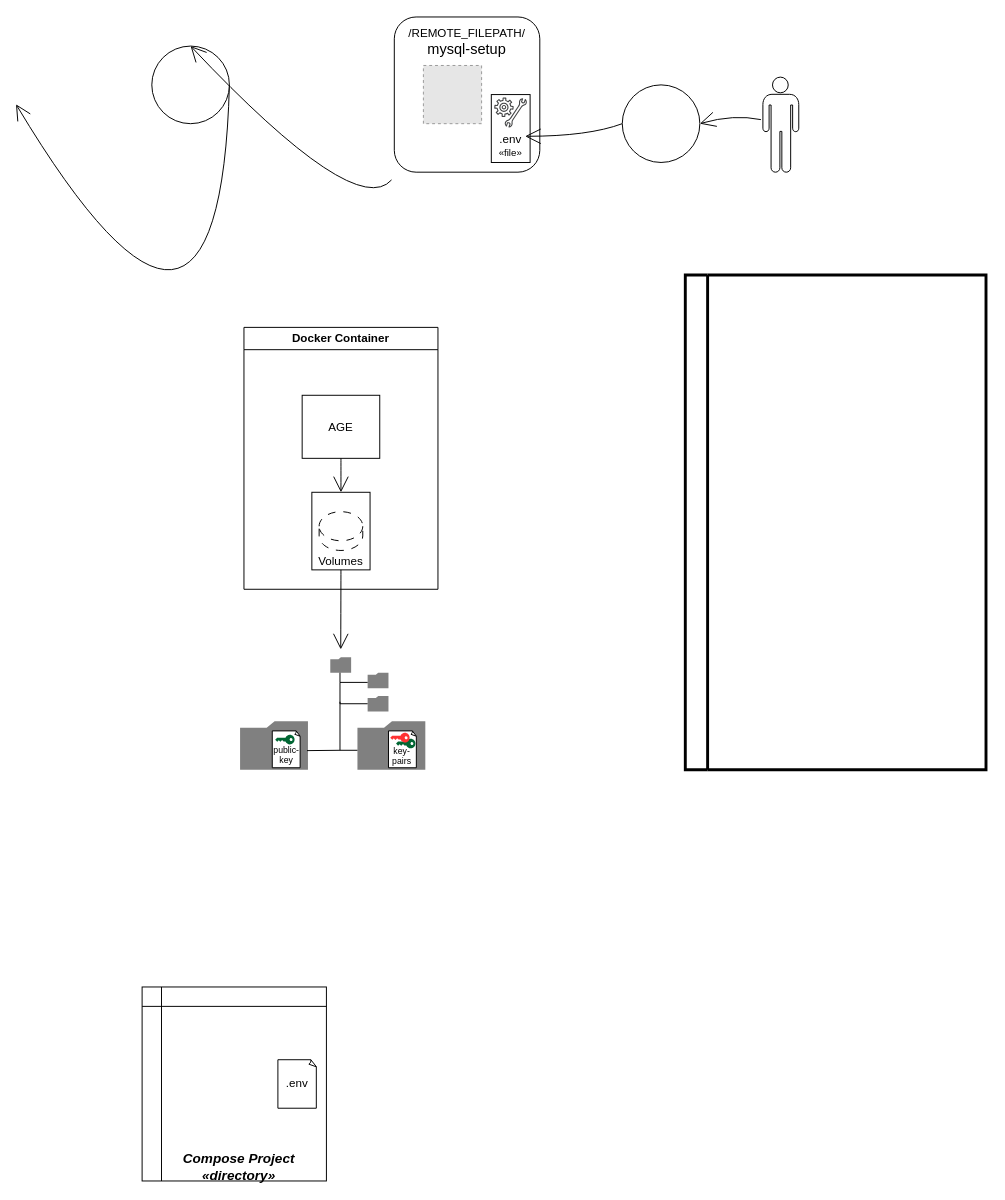
This 1005x1200 diagram has some shape labels left out. Grey dashed boxes stand in for pictures. Each missing label, with the centre of its shape:
Configure Manually: [660,123]
Remot Host: [835,522]
start docker containter: [190,84]
